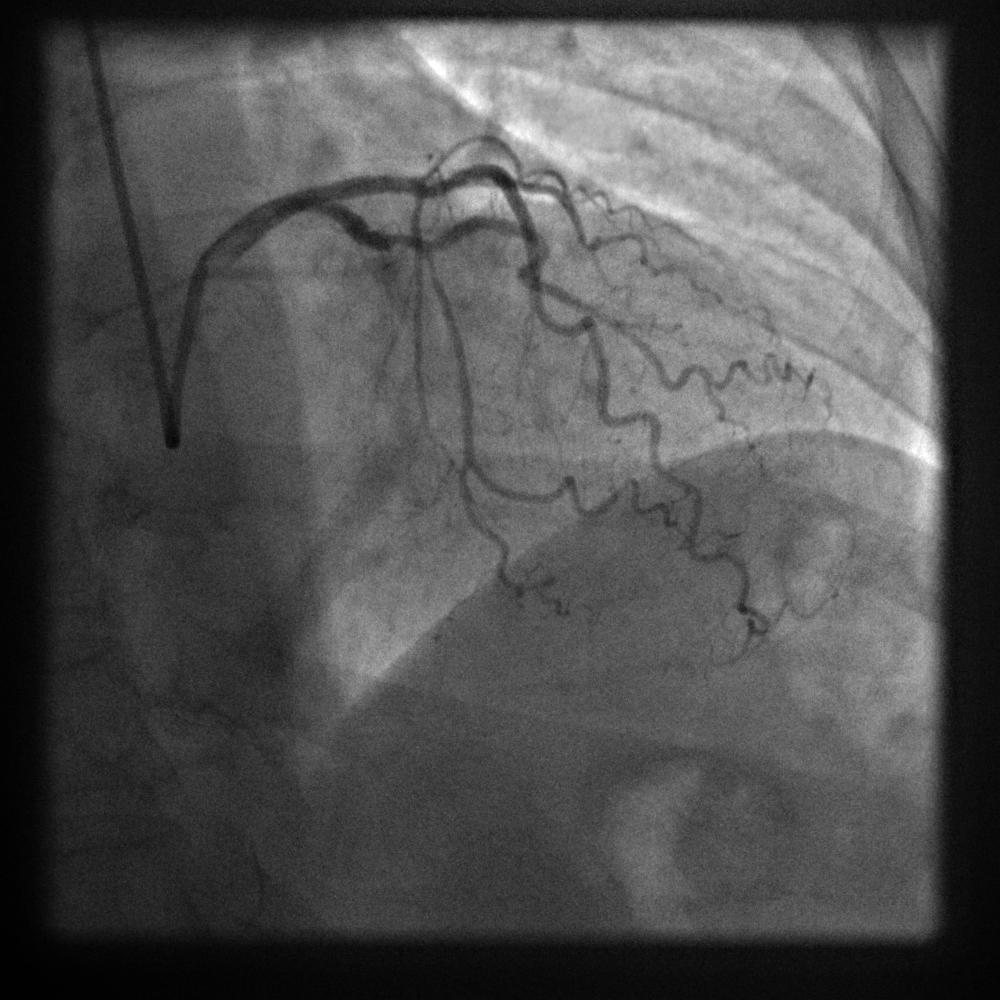Stenosis: (348, 221, 442, 262)
